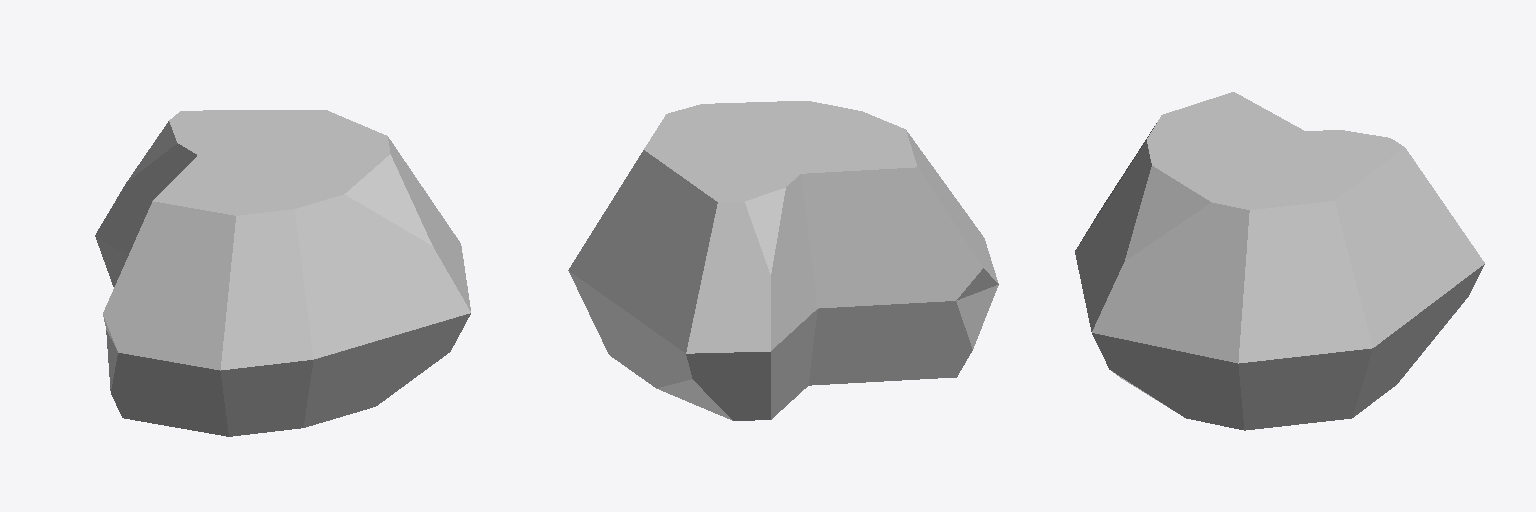
File: rock_largeD.obj
3 views of the same model, side by side, from view 1: azimuth 30°, elevation 25°; view 2: azimuth 150°, elevation 25°; view 3: azimuth 270°, elevation 25° (orthographic).
Parts seen in each view (by area): view 1: rock_largeD; view 2: rock_largeD; view 3: rock_largeD.
Part boxes in pixels (bbox=[...]): rock_largeD: bbox=[95, 110, 470, 436]; rock_largeD: bbox=[568, 101, 998, 420]; rock_largeD: bbox=[1075, 92, 1484, 430].
Size of the model in its own units: 1.07 by 0.5683 by 1.03.